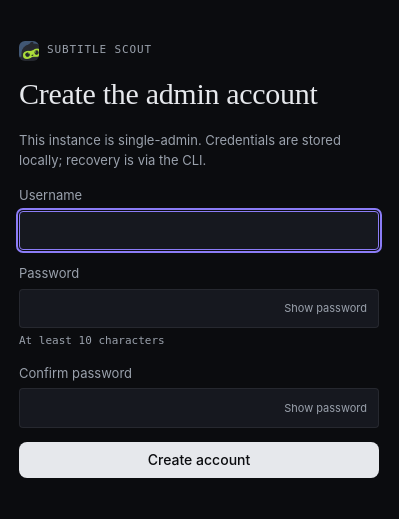
it: SetupWizard（鉴权 A2 Task 9+9′：首启向导，单屏建管理员） › 两次密码不一致 → 前端拦截显示错误，不发请求
This screenshot has width=399, height=519.
Step 1. Type "admin" into the field labelled "Username" → point(199, 230), box [19,210,379,250]
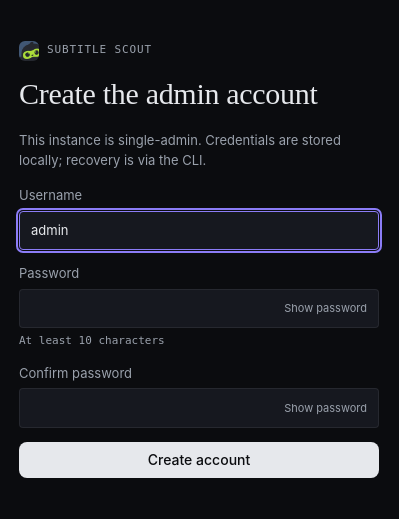
Step 2. Type "hunter2222!!" into the password field labelled "Password" → point(199, 308), box [19,288,379,328]
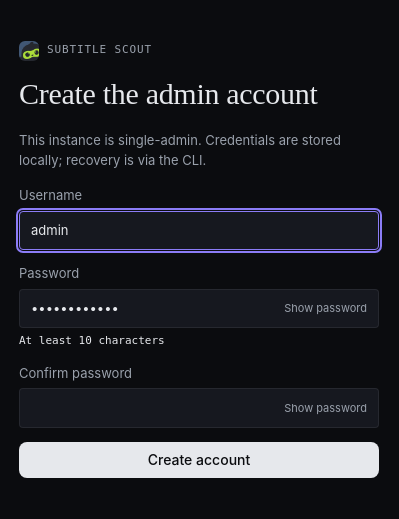
Step 3. Type "different2222" into the password field labelled "Confirm password" → point(199, 408), box [19,388,379,428]
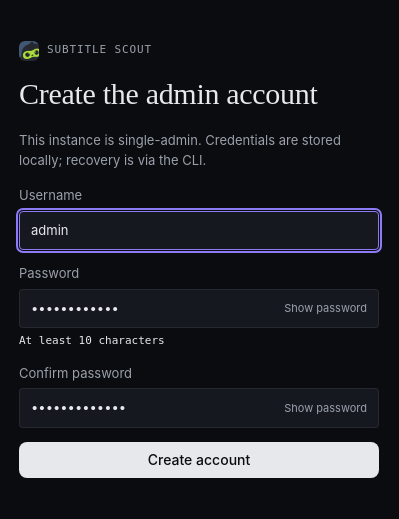
Step 4. Click the button "Create account" → point(199, 460), box [19,442,379,478]
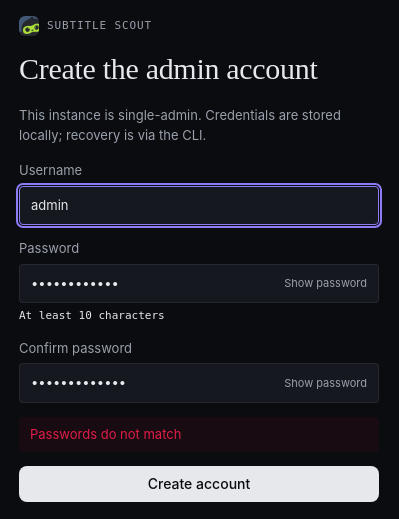
Expected: the text "Passwords do not match" is shown, [19,417,379,452]
